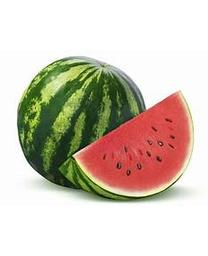watermelon: (15, 57, 148, 190), (58, 90, 196, 200)
